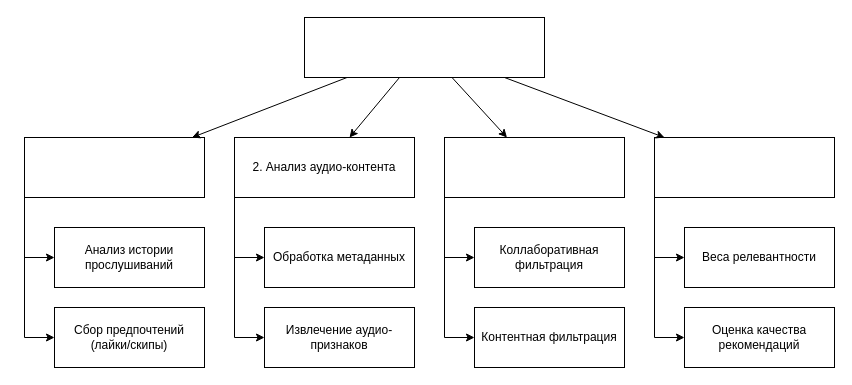
Some shapes in this 852 by 385 pixel diagram are drawn without their labels. The shapes that lost their labels are listed below. From the top down, each one's centre as x and y in pixels, then its label:
At point (424, 47): "Модуль интеллектуальных рекомендаций".
At point (114, 167): "1. Сбор и профилирование".
At point (534, 167): "3. Генерация кандидатов".
At point (744, 167): "4. Финальное ранжирование".
